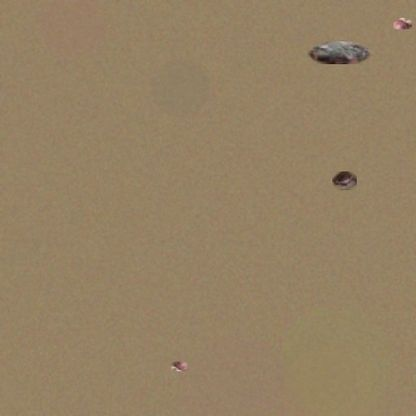damaged: (332, 171, 357, 190)
rotten: (307, 41, 371, 64)
sprouted: (393, 18, 412, 29), (171, 362, 188, 371)
